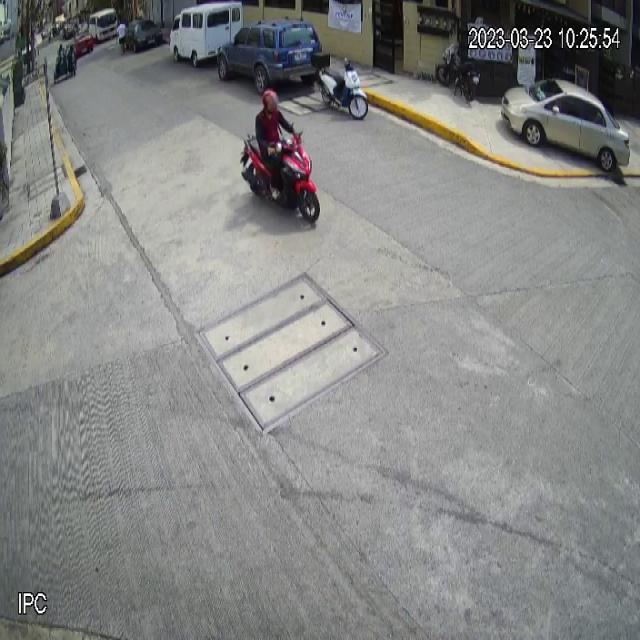Car: (501, 78, 630, 171), (216, 16, 323, 96)
Motorcycle: (238, 130, 322, 225), (309, 49, 369, 120)
Van: (169, 0, 242, 69)
